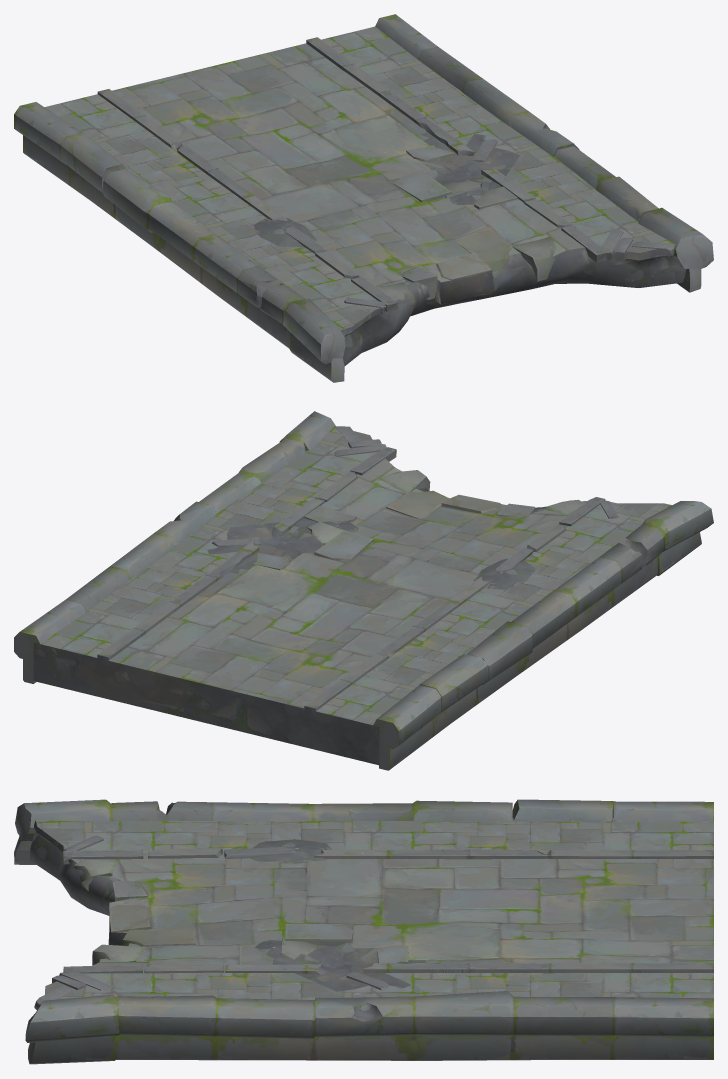
Rendered from Area_MdBuild_SdBridge24_Group.fbx.
3 renders of one model, top to bottom at view 1: azimuth 30°, elevation 25°; view 2: azimuth 150°, elevation 25°; view 3: azimuth 270°, elevation 25°, orthographic. The views are drawn at different scales.
Visible parts, largest first — view 1: Area_MdBuild_SdBridge24_Lod0; view 2: Area_MdBuild_SdBridge24_Lod0; view 3: Area_MdBuild_SdBridge24_Lod0.
Part boxes in pixels (x1,y1,x2,y2): Area_MdBuild_SdBridge24_Lod0: (14, 14, 713, 382); Area_MdBuild_SdBridge24_Lod0: (14, 411, 713, 770); Area_MdBuild_SdBridge24_Lod0: (14, 799, 713, 1064).
Size of what is drawn, in the model's own units: 10.74 by 1.45 by 14.59.
4 materials, 4 textured.
